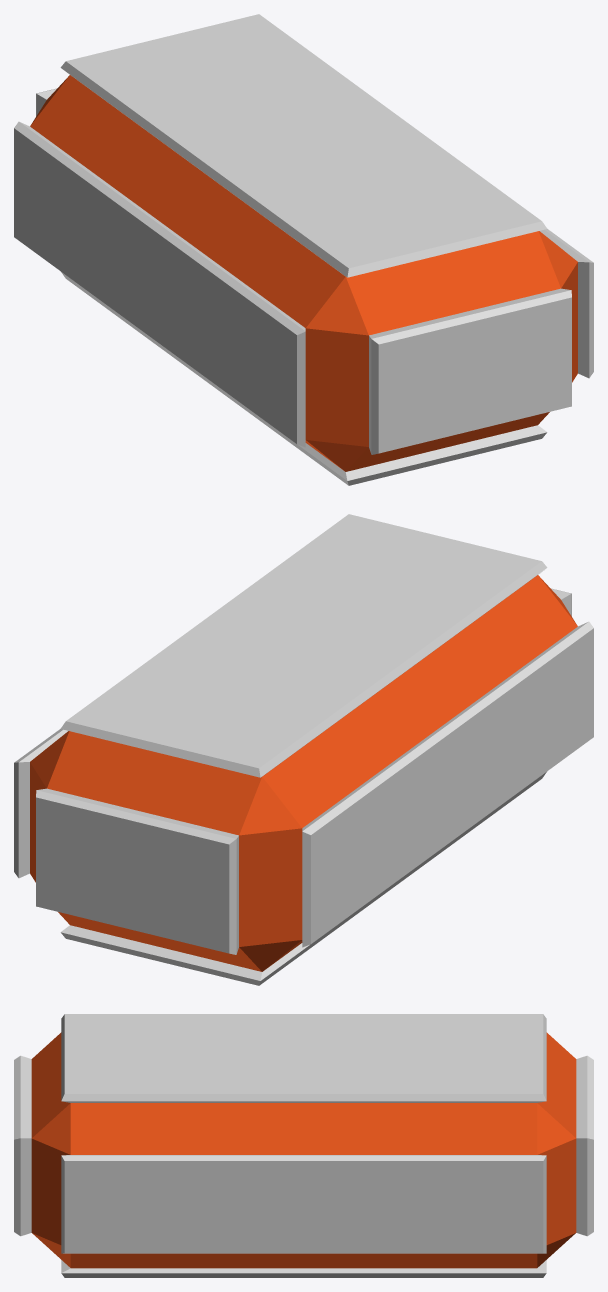
The picture shows the model from 3 angles, top to bottom: view 1: azimuth 30°, elevation 25°; view 2: azimuth 150°, elevation 25°; view 3: azimuth 270°, elevation 25°; orthographic projection. The views are drawn at different scales.
Parts seen in each view (by area): view 1: Cube.001; view 2: Cube.001; view 3: Cube.001.
Part boxes in pixels (<box>): Cube.001: <box>14,14,593,485</box>; Cube.001: <box>14,514,593,985</box>; Cube.001: <box>14,1014,593,1277</box>.
Bounding box in the file's own units: 200 × 140 × 400.
